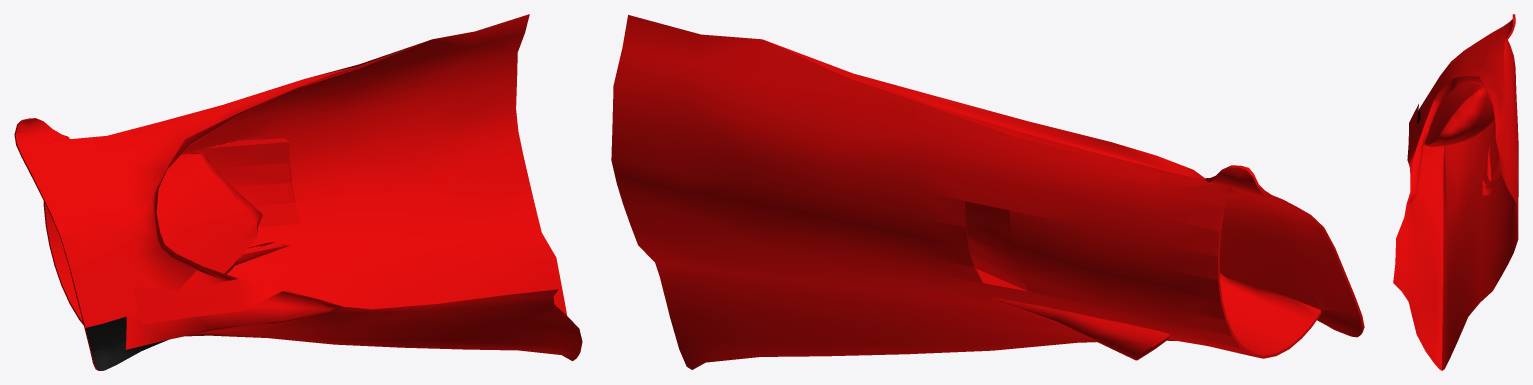
File: rafale_highlight_14.fbx
3 renders of one model, left to right at view 1: azimuth 30°, elevation 25°; view 2: azimuth 150°, elevation 25°; view 3: azimuth 270°, elevation 25°, orthographic. The views are drawn at different scales.
Visible parts, largest first — view 1: rafale_highlight_14; view 2: rafale_highlight_14; view 3: rafale_highlight_14.
Part boxes in pixels (left/top/right/bottom): rafale_highlight_14: left=14, top=14, right=582, bottom=370; rafale_highlight_14: left=611, top=15, right=1364, bottom=369; rafale_highlight_14: left=1393, top=14, right=1518, bottom=370.
Size of the model in its own units: 114 by 68.57 by 38.32.
